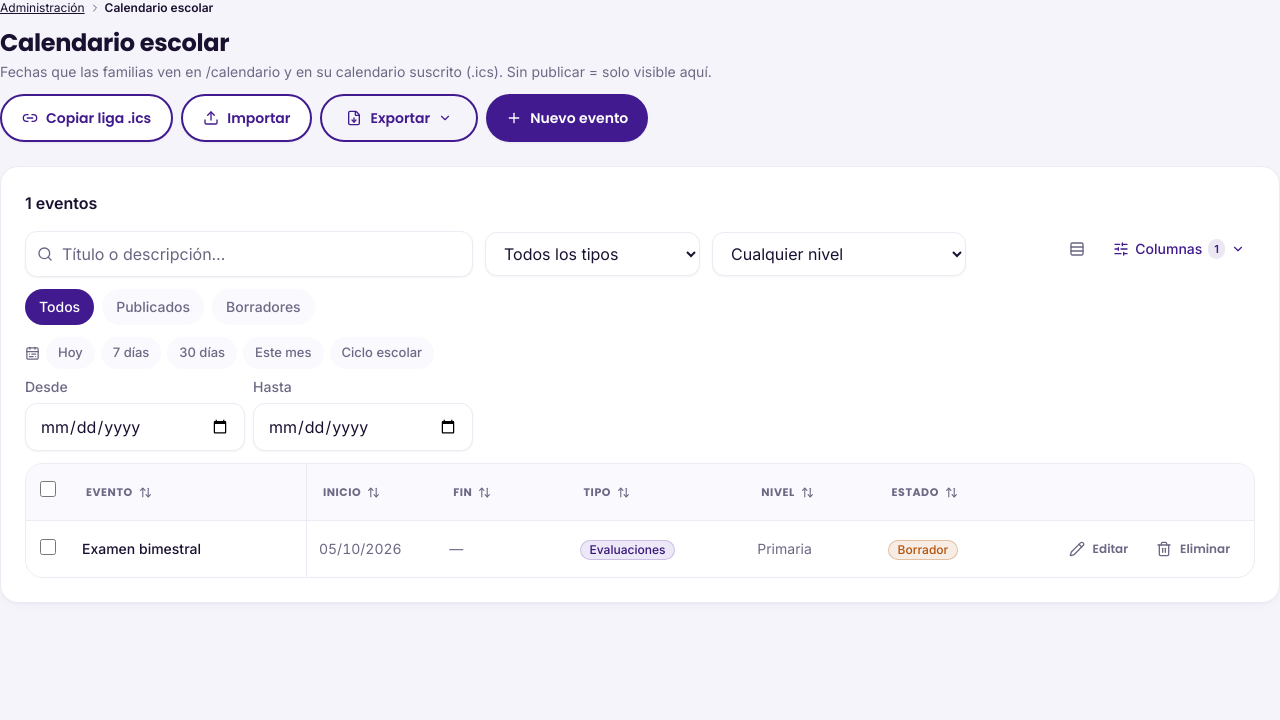
Test: AdminCalendar › opens the import dialog with the expected headers
Expected: the text "Examen bimestral" is shown, [70,520,307,577]
Click the button "Importar" at (247, 118), box [181,94,312,142]
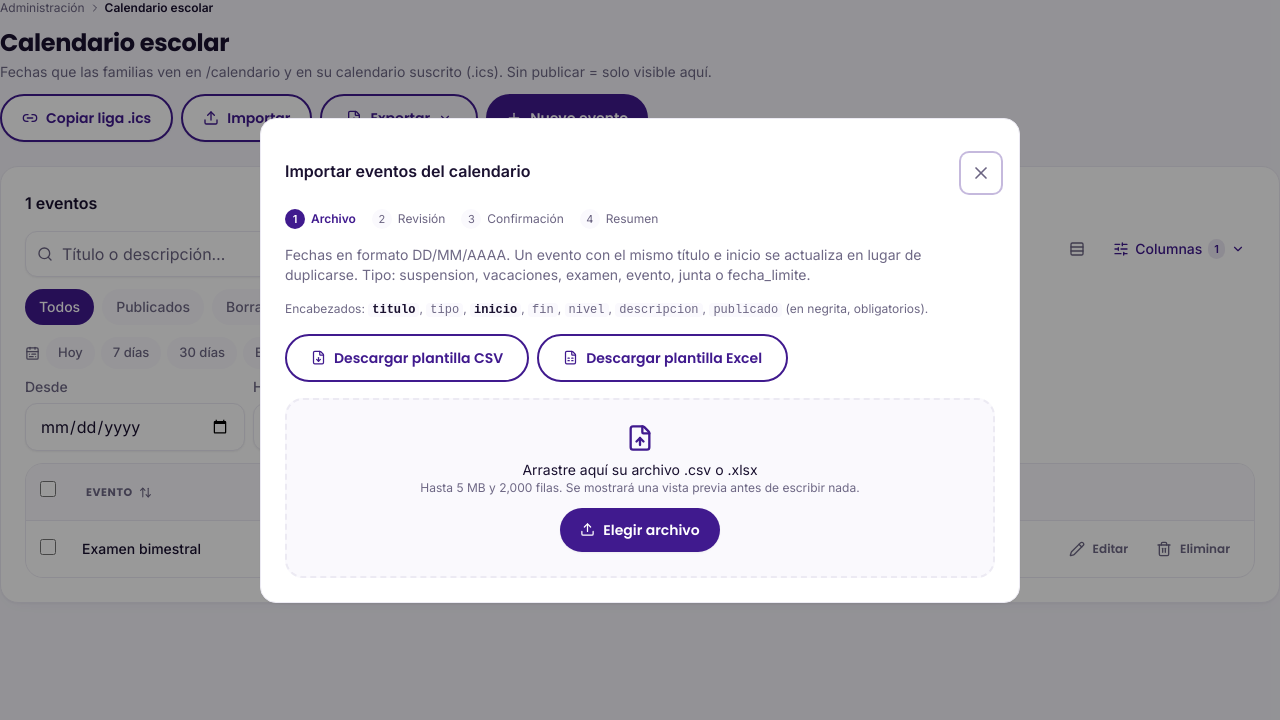
Now the text "titulo" is shown, box [368,302,420,316]
Now the text "publicado" is shown, box [709,302,782,316]
Now the text "DD/MM/AAAA" is shown, box [285,246,922,282]
